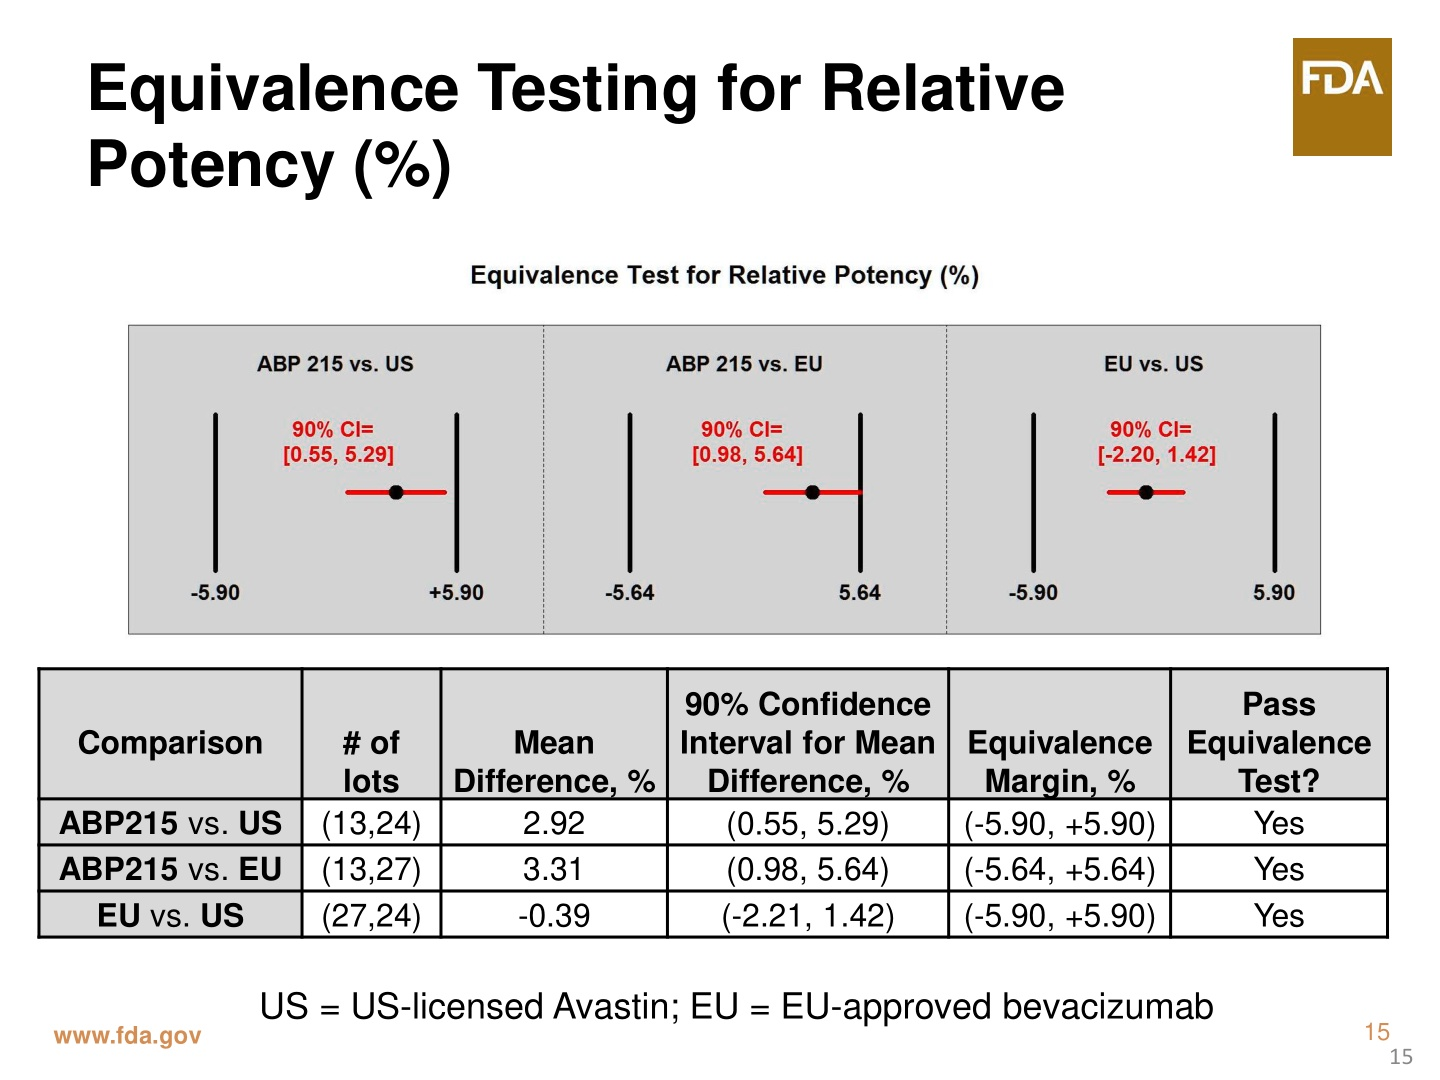full_lined: (34, 663, 1394, 942)
